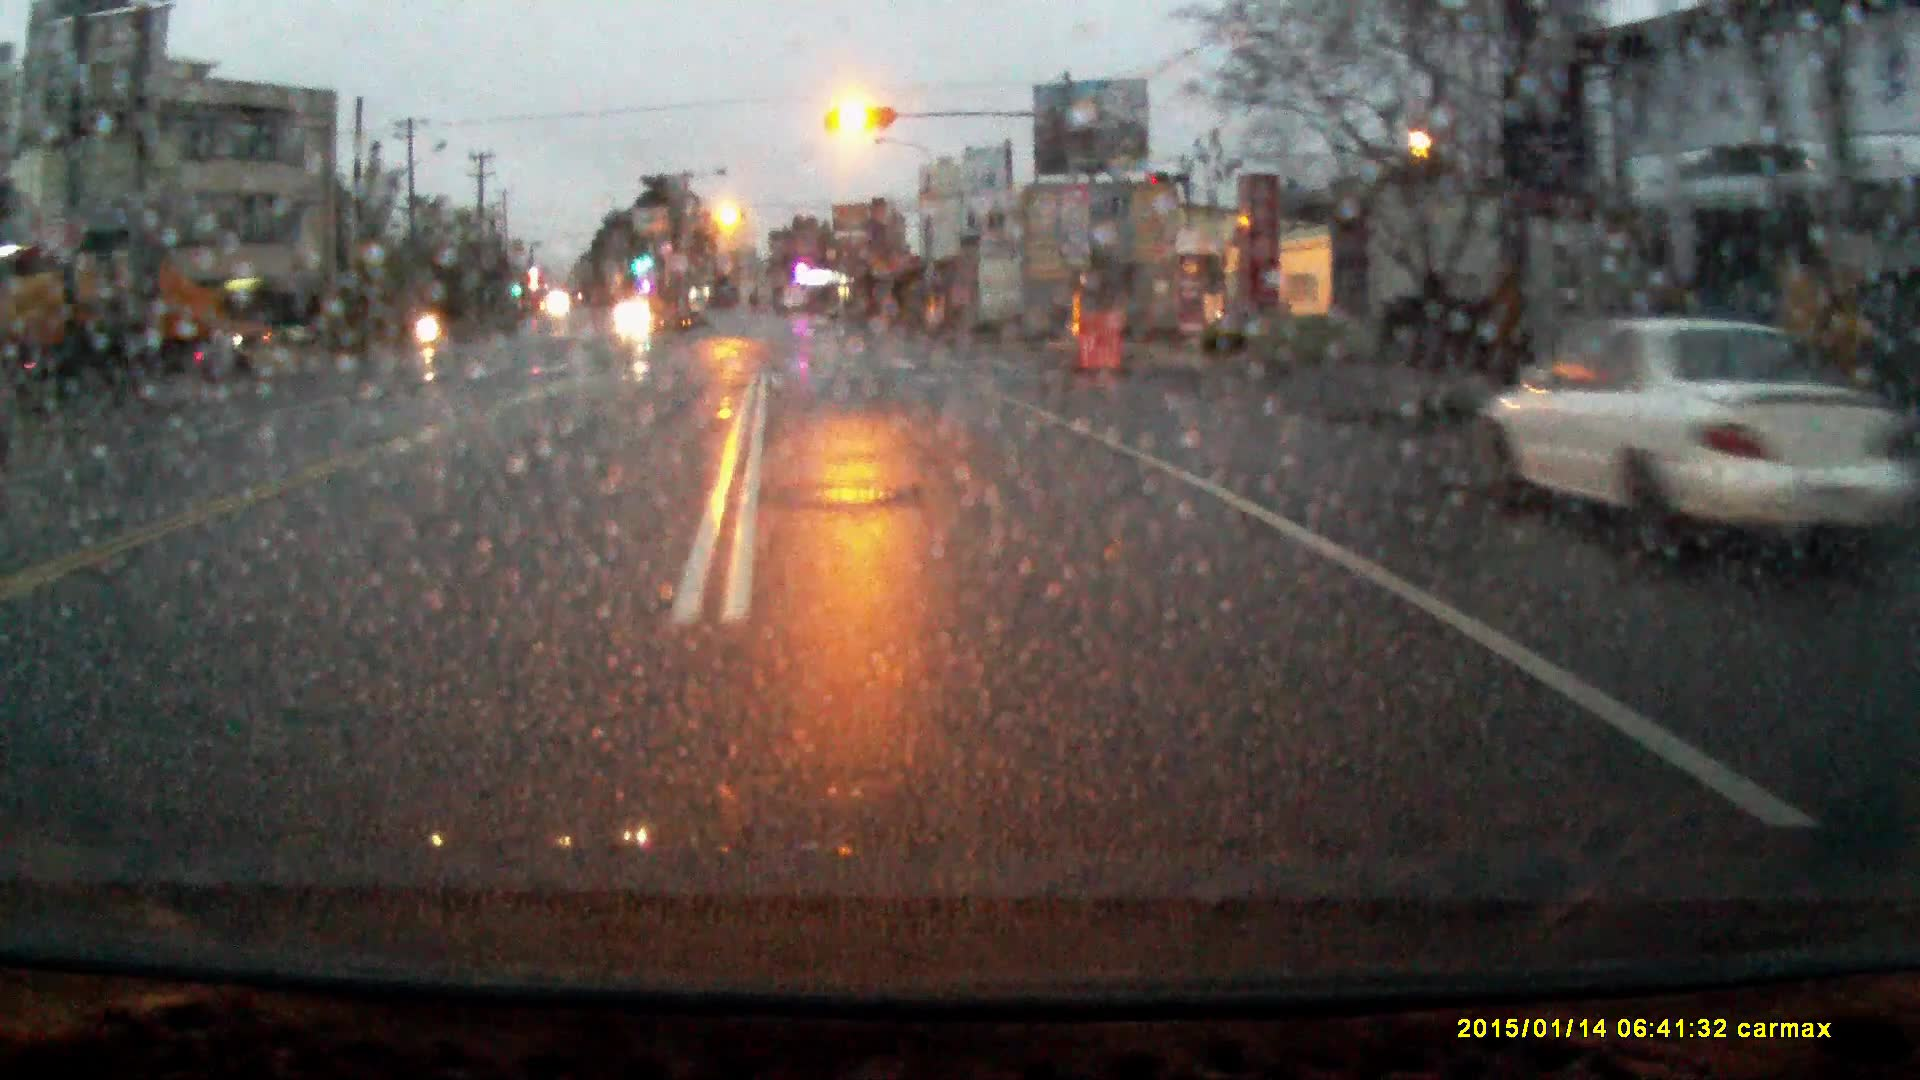rider: (415, 289, 445, 353)
vehicle: (1467, 315, 1887, 547), (1, 258, 244, 385), (615, 298, 653, 330)
